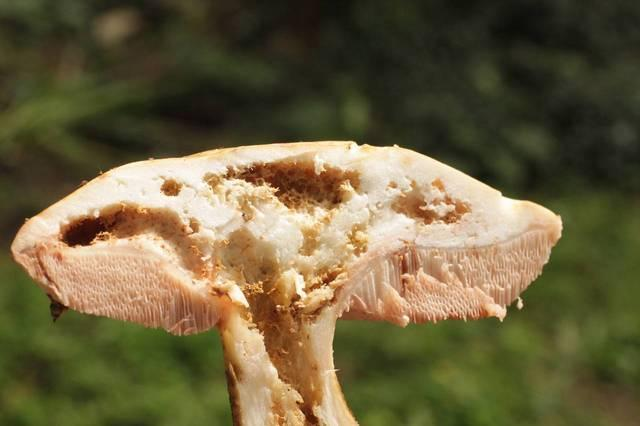poisonous_mushroom: (9, 138, 564, 425)
